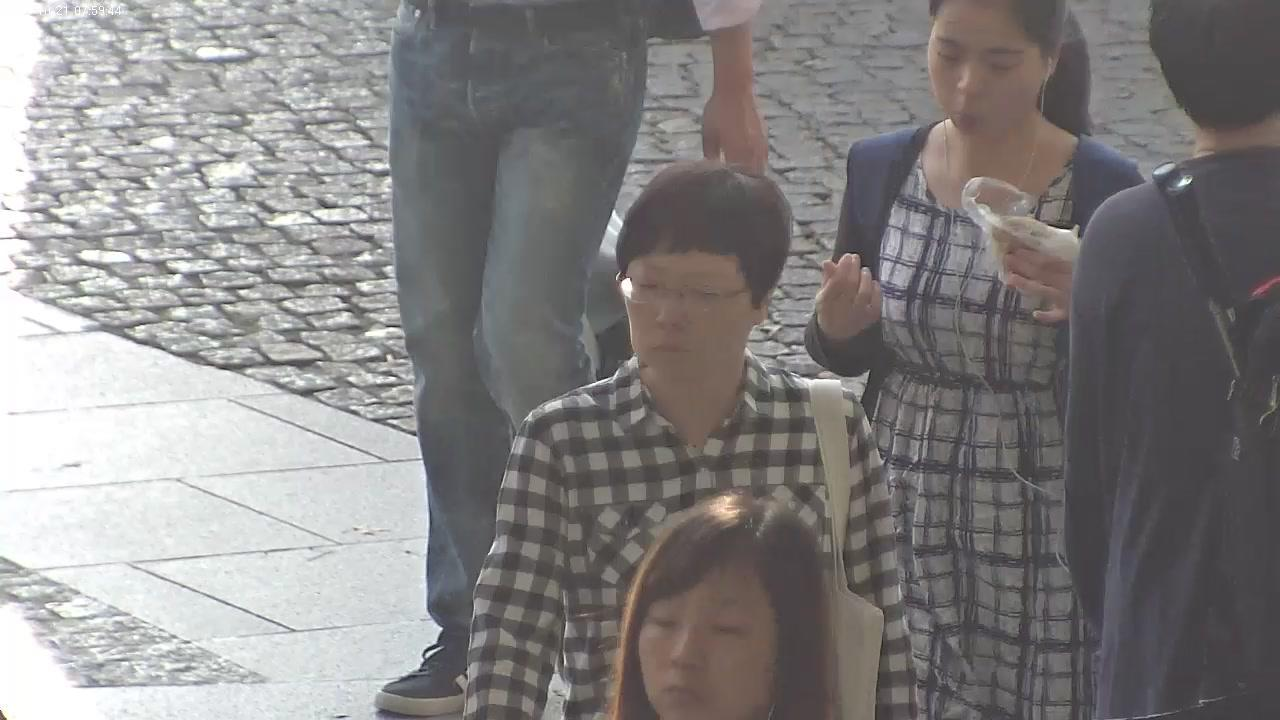person: (373, 0, 772, 718), (464, 156, 921, 720), (804, 0, 1150, 718), (1070, 3, 1280, 720)
